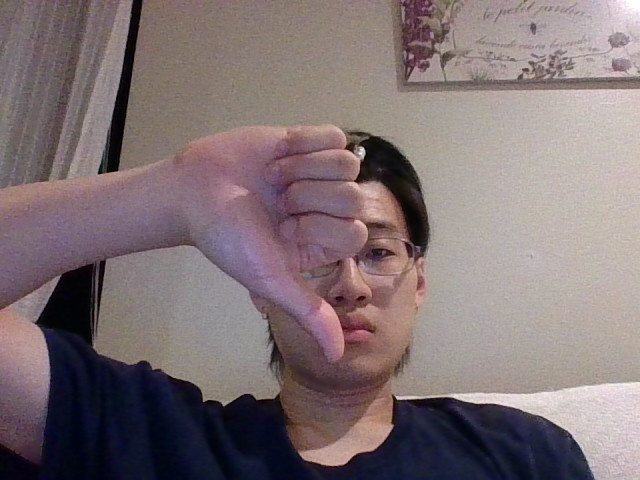ThumbsDown: (184, 126, 369, 363)
